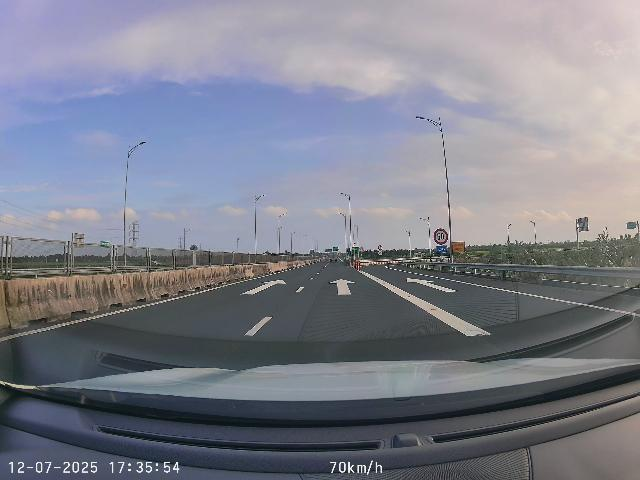127-toc-do-toi-da-50: (433, 228, 449, 245)
